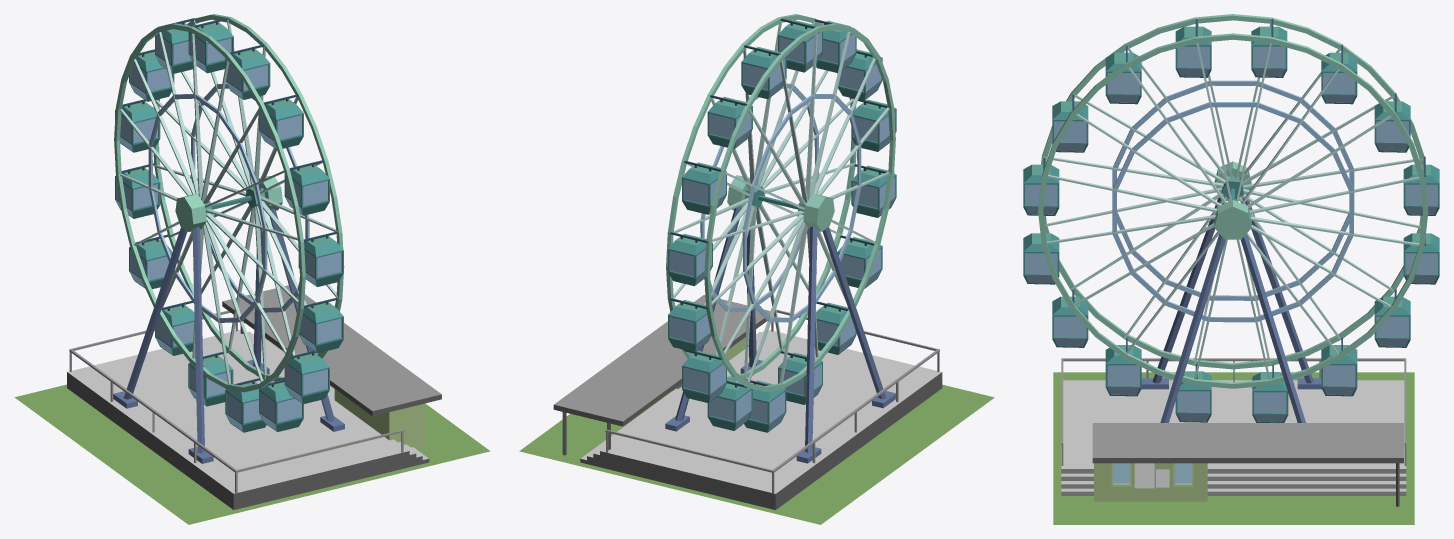
Rendered from landscape_entertainment_005.fbx.
3 renders of one model, left to right at view 1: azimuth 30°, elevation 25°; view 2: azimuth 150°, elevation 25°; view 3: azimuth 270°, elevation 25°, orthographic. The views are drawn at different scales.
Parts seen in each view (by area): view 1: landscape_entertainment_005; view 2: landscape_entertainment_005; view 3: landscape_entertainment_005.
Boxes of the visible parts, box(x1,y1,x2,y2) form: landscape_entertainment_005: box(14, 14, 490, 524); landscape_entertainment_005: box(519, 14, 994, 524); landscape_entertainment_005: box(1023, 14, 1439, 524).
Bounding box in the file's own units: 1600 × 2024 × 1844.
